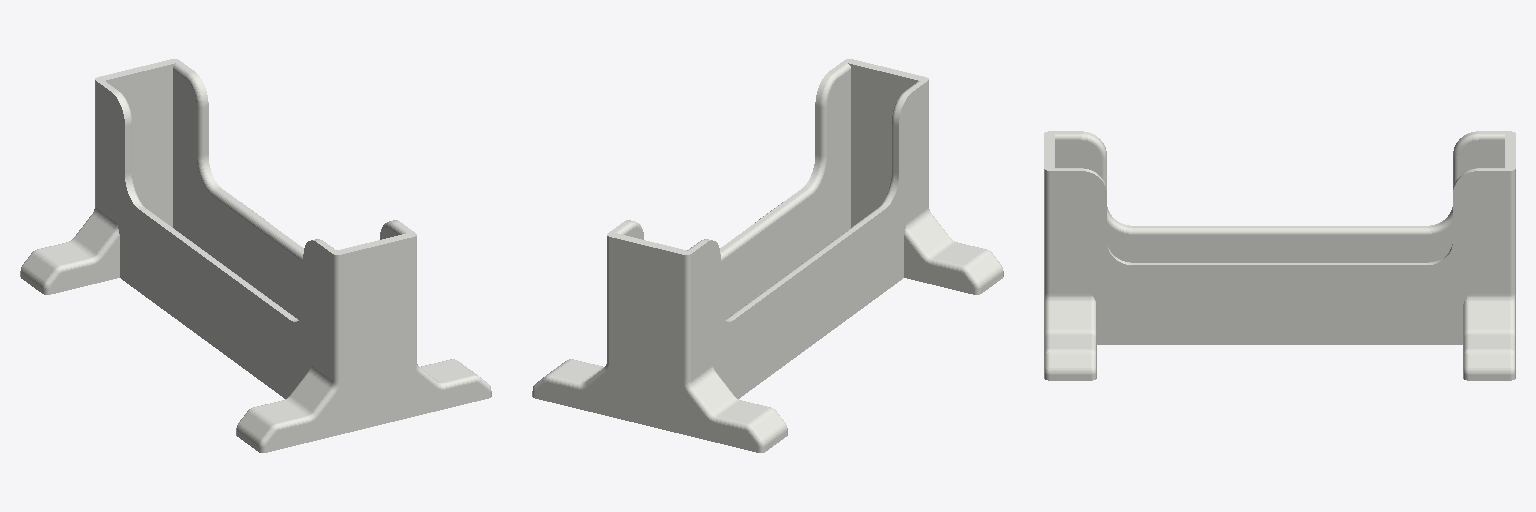
URDF robot description (cb_card_holder_kit):
<?xml version="1.0"?>
<!-- ContactBench kit card holder (card_holder_kit). Generated by FoundationTouch tools/contactbench/card_tasks.py -->
<robot name="cb_card_holder_kit">
  <material name="c"><color rgba="0.92 0.92 0.90 1.0"/></material>
  <link name="receptive">
    <visual><origin xyz="0 0 0" rpy="0 0 0"/><geometry><mesh filename="card_holder_kit.obj" scale="1 1 1"/></geometry><material name="c"/></visual>
    <collision><origin xyz="0.000000 0.000000 0.001000" rpy="0.000000 0.000000 0.000000"/><geometry><box size="0.018000 0.090500 0.002000"/></geometry></collision>
    <collision><origin xyz="-0.008000 0.000000 0.009500" rpy="0.000000 0.000000 0.000000"/><geometry><box size="0.002000 0.086500 0.015000"/></geometry></collision>
    <collision><origin xyz="0.000000 -0.044250 0.018500" rpy="0.000000 0.000000 0.000000"/><geometry><box size="0.018000 0.002000 0.037000"/></geometry></collision>
    <collision><origin xyz="-0.008000 -0.038250 0.027000" rpy="0.000000 0.000000 0.000000"/><geometry><box size="0.002000 0.010000 0.020000"/></geometry></collision>
    <collision><origin xyz="-0.016750 -0.038250 0.002500" rpy="0.000000 0.000000 0.000000"/><geometry><box size="0.015500 0.014000 0.005000"/></geometry></collision>
    <collision><origin xyz="-0.008000 0.038250 0.027000" rpy="0.000000 0.000000 0.000000"/><geometry><box size="0.002000 0.010000 0.020000"/></geometry></collision>
    <collision><origin xyz="-0.016750 0.038250 0.002500" rpy="0.000000 0.000000 0.000000"/><geometry><box size="0.015500 0.014000 0.005000"/></geometry></collision>
    <collision><origin xyz="0.008000 0.000000 0.009500" rpy="0.000000 0.000000 0.000000"/><geometry><box size="0.002000 0.086500 0.015000"/></geometry></collision>
    <collision><origin xyz="0.000000 0.044250 0.018500" rpy="0.000000 0.000000 0.000000"/><geometry><box size="0.018000 0.002000 0.037000"/></geometry></collision>
    <collision><origin xyz="0.008000 -0.038250 0.027000" rpy="0.000000 0.000000 0.000000"/><geometry><box size="0.002000 0.010000 0.020000"/></geometry></collision>
    <collision><origin xyz="0.016750 -0.038250 0.002500" rpy="0.000000 0.000000 0.000000"/><geometry><box size="0.015500 0.014000 0.005000"/></geometry></collision>
    <collision><origin xyz="0.008000 0.038250 0.027000" rpy="0.000000 0.000000 0.000000"/><geometry><box size="0.002000 0.010000 0.020000"/></geometry></collision>
    <collision><origin xyz="0.016750 0.038250 0.002500" rpy="0.000000 0.000000 0.000000"/><geometry><box size="0.015500 0.014000 0.005000"/></geometry></collision>
  </link>
</robot>

--- Facts derived from the render (not from the file) ---
The picture shows the robot from 3 angles, left to right: view 1: azimuth 30°, elevation 25°; view 2: azimuth 150°, elevation 25°; view 3: azimuth 270°, elevation 25°; orthographic projection.
Robot: cb_card_holder_kit — 1 links, 0 joints (none); root link receptive; default pose: every joint at zero.
Links seen in each view (by area): view 1: receptive; view 2: receptive; view 3: receptive.
Link boxes in pixels (bbox=[...]): receptive: bbox=[20, 59, 491, 452]; receptive: bbox=[532, 59, 1003, 452]; receptive: bbox=[1044, 131, 1515, 380].
Bounding box of the posed robot: 0.05 × 0.0905 × 0.037 m (x, y, z).
1 mesh visuals loaded from 1 distinct referenced files (1 OBJ).
